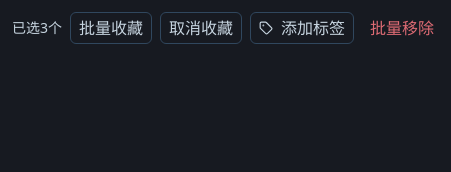
it: collects per-item failures into failedIds and reports the failure count
Click the button "批量收藏" at (111, 28), box [70,12,152,44]
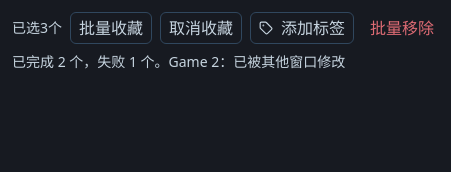
expect the text "已完成 2 个，失败 1 个。Game 2：已被其他窗口修改" is shown: met, box [12,52,345,71]
